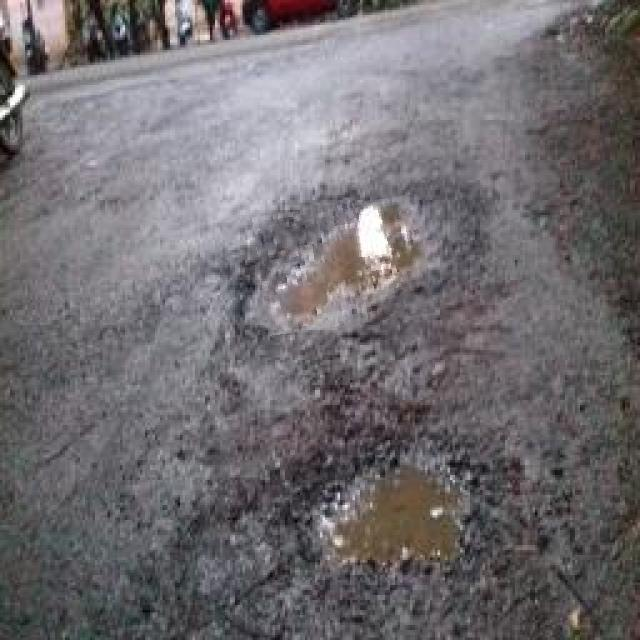puddle: (256, 200, 432, 332)
